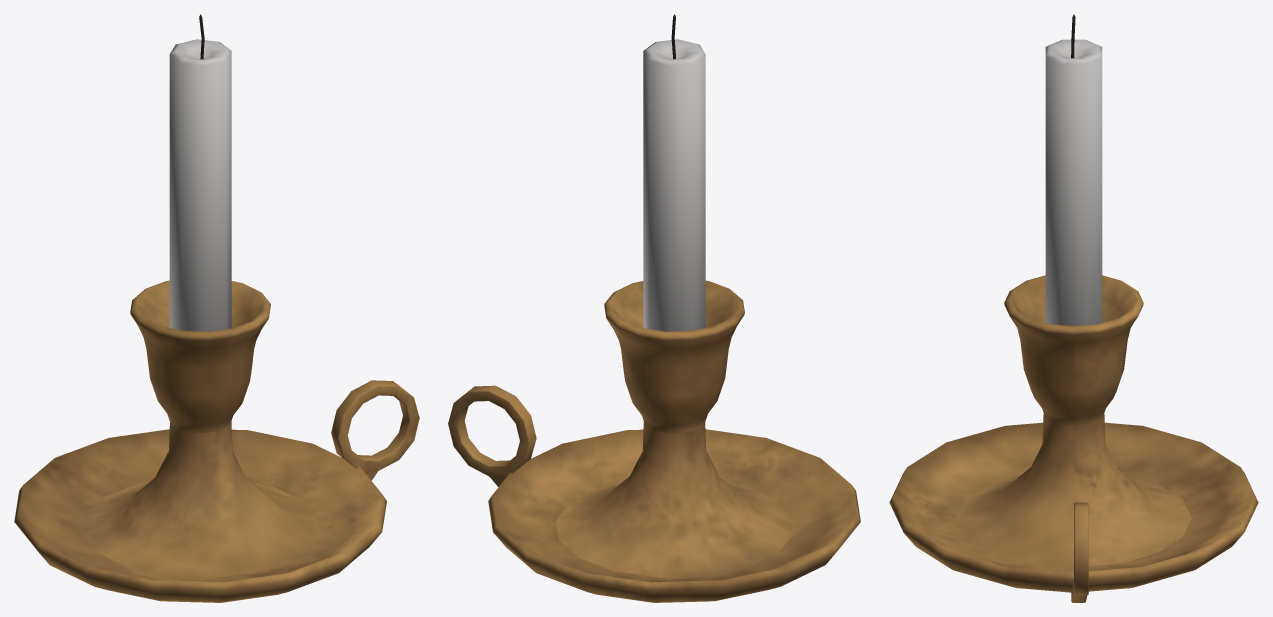
Rendered from CandleStand_D.fbx.
3 views of the same model, side by side, from view 1: azimuth 30°, elevation 25°; view 2: azimuth 150°, elevation 25°; view 3: azimuth 270°, elevation 25° (orthographic).
Parts seen in each view (by area): view 1: CandleStand_D; view 2: CandleStand_D; view 3: CandleStand_D.
Part boxes in pixels (bbox=[...]): CandleStand_D: bbox=[14, 14, 419, 602]; CandleStand_D: bbox=[448, 14, 860, 602]; CandleStand_D: bbox=[889, 14, 1258, 602].
Bounding box in the file's own units: 0.2089 × 0.2738 × 0.1778.
